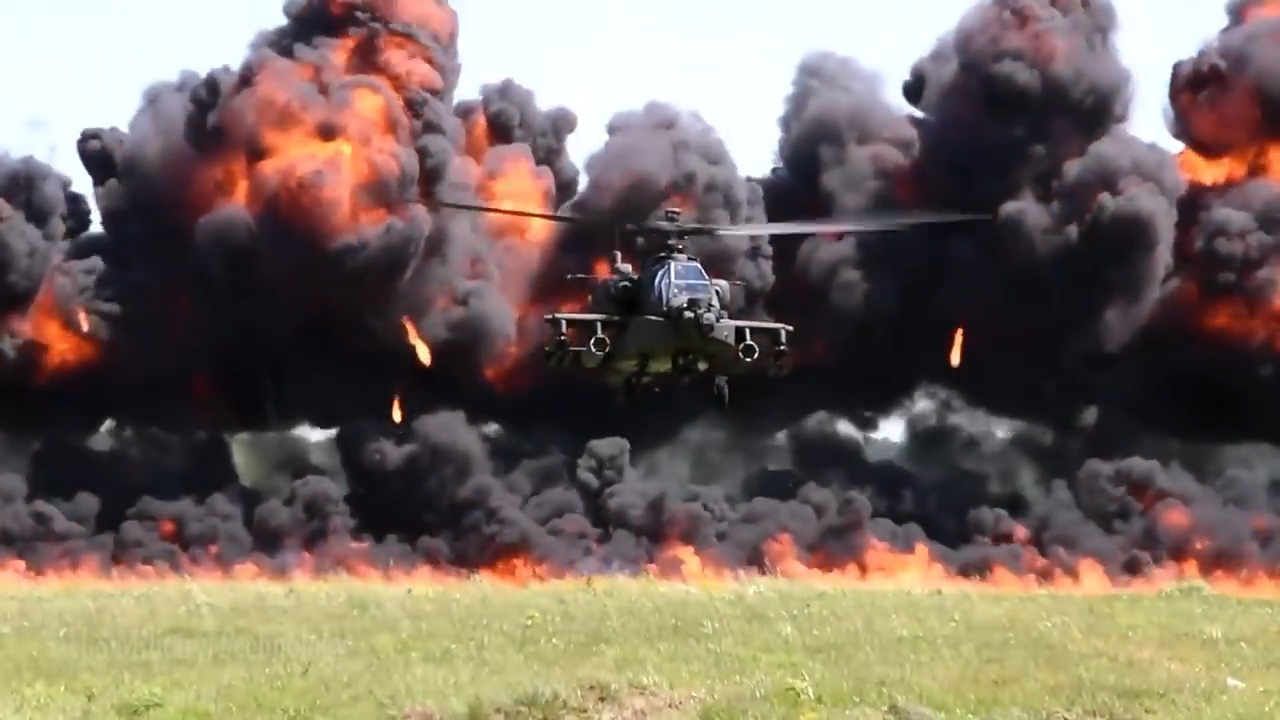ah64: (396, 206, 992, 413)
